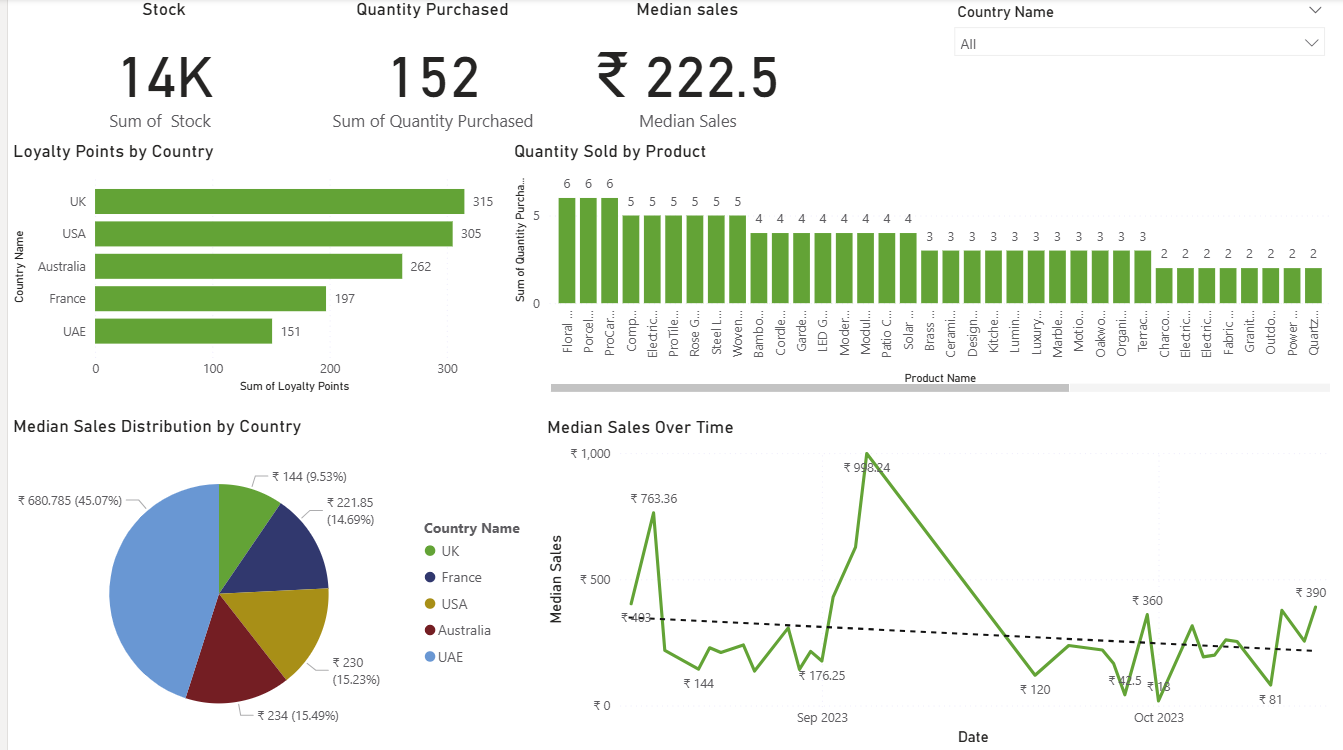

The page's visual inventory and layout, read from the dashboard file:
{"tool":"powerbi","page":{"name":"Sales Overview","canvas":[1280,720],"ordinal":0},"visuals":[{"type":"clusteredBarChart","title":"Loyalty Points by Country","fields":{"Category":["Sales in USD.Country Name"],"Y":["Sum(Sales in USD. Loyalty Points)"]},"box":[0,136.9,479.8,245.4],"z":0},{"type":"clusteredColumnChart","title":"Quantity Sold by Product","fields":{"Category":["Sales in USD.Product Name"],"Y":["Sum(Sales in USD.Quantity Purchased)"]},"box":[479.8,136.9,791.3,245.4],"z":1000},{"type":"pieChart","title":"Median Sales Distribution by Country","fields":{"Y":["Sales in USD.Median Sales"],"Category":["Sales in USD.Country Name"]},"box":[0,399.6,511.3,320.9],"z":2000},{"type":"lineChart","title":"Median Sales Over Time","fields":{"Y":["Sales in USD.Median Sales"],"Category":["CalendarTable.Date"]},"box":[511.3,401.2,769.3,319.3],"z":3000},{"type":"card","title":"Stock","fields":{"Values":["Sum(Sales in USD. Stock  )"]},"box":[0,0,298.9,136.9],"z":4000},{"type":"card","title":"Quantity Purchased","fields":{"Values":["Sum(Sales in USD.Quantity Purchased)"]},"box":[256.4,0,298.9,136.9],"z":5000},{"type":"card","title":"Median sales","fields":{"Values":["Sales in USD.Median Sales"]},"box":[511.3,0,278.4,136.9],"z":6000},{"type":"slicer","fields":{"Values":["Sales in USD.Country Name"]},"box":[896.7,0,374.4,99.1],"z":7000}]}

Visuals, with their boxes in screenshot pixels (x1, y1, x2, y2), scaled from the page's 1280x720 canvas onto the 1343x750 screenshot:
"Loyalty Points by Country" clusteredBarChart: region(0, 143, 503, 398)
"Quantity Sold by Product" clusteredColumnChart: region(503, 143, 1334, 398)
"Median Sales Distribution by Country" pieChart: region(0, 416, 536, 749)
"Median Sales Over Time" lineChart: region(536, 418, 1342, 749)
"Stock" card: region(0, 0, 314, 143)
"Quantity Purchased" card: region(269, 0, 583, 143)
"Median sales" card: region(536, 0, 829, 143)
slicer - Sales in USD.Country Name: region(941, 0, 1334, 103)
